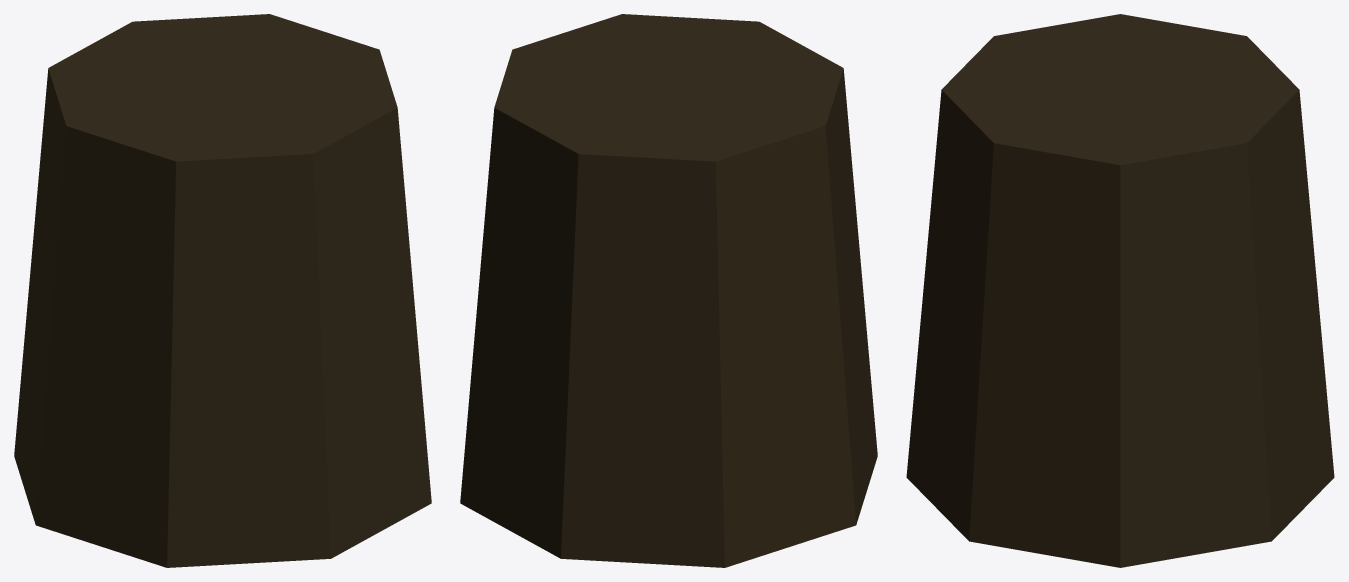
3 renders of one model, left to right at view 1: azimuth 30°, elevation 25°; view 2: azimuth 150°, elevation 25°; view 3: azimuth 270°, elevation 25°, orthographic.
Visible parts, largest first — view 1: Cylinder015; view 2: Cylinder015; view 3: Cylinder015.
Part boxes in pixels (x1,y1,x2,y2): Cylinder015: [14, 14, 431, 567]; Cylinder015: [460, 14, 877, 567]; Cylinder015: [906, 14, 1334, 567].
Bounding box in the file's own units: 0.6 × 0.6 × 0.6.
